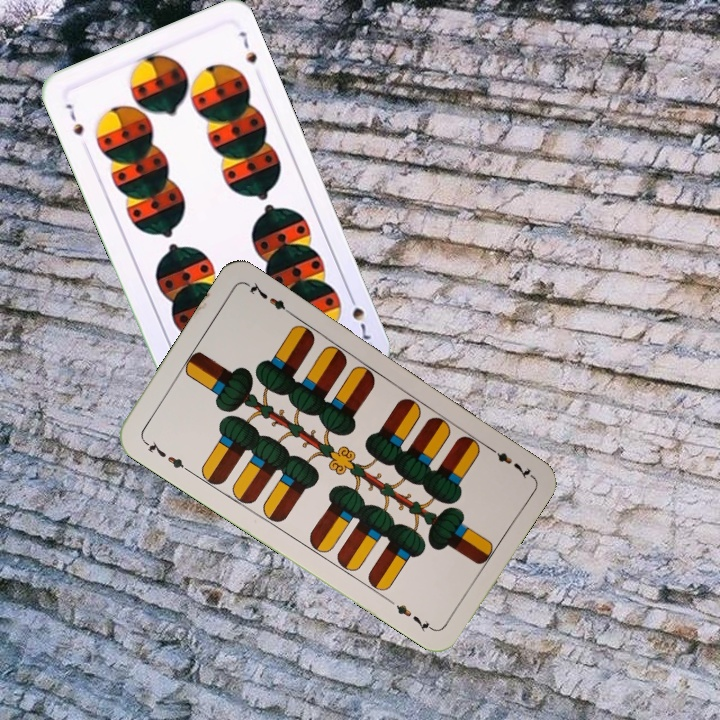E7: (482, 441, 534, 482), (139, 436, 192, 474)
S7: (344, 289, 374, 343), (62, 99, 86, 139)
